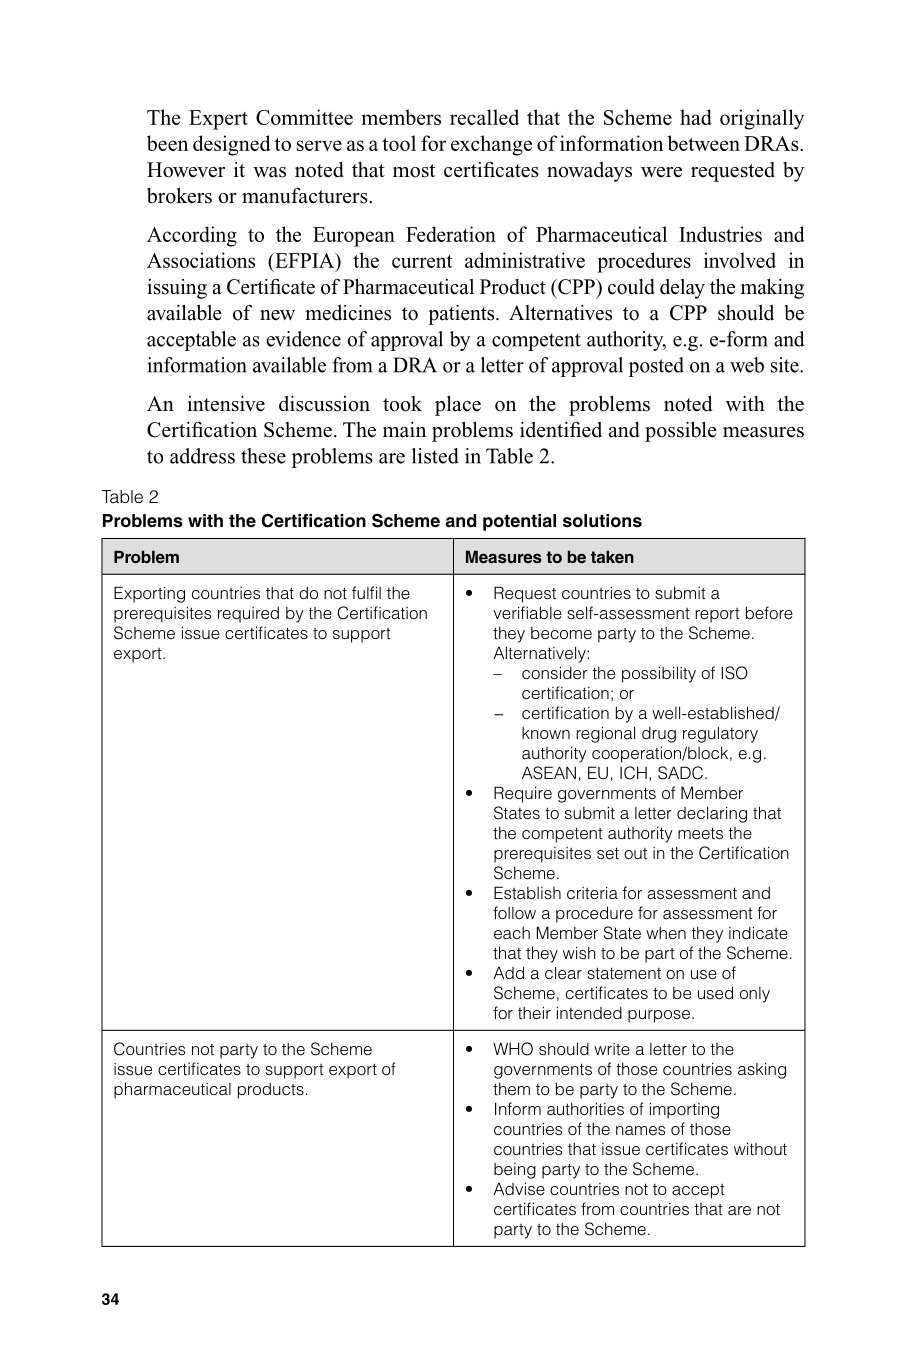full_lined: (101, 537, 806, 1246)
